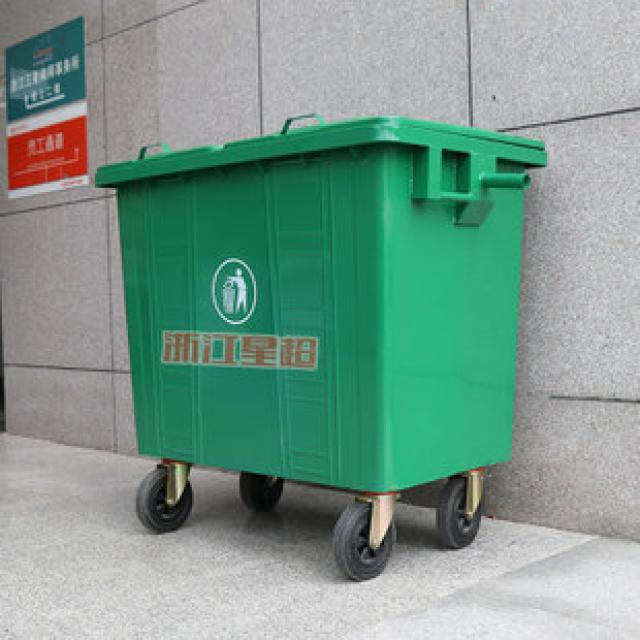garbage_bin: (93, 114, 545, 489)
